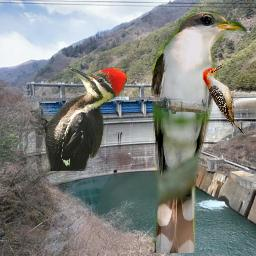Cuckoo: (149, 9, 247, 253)
Woodpecker: (30, 65, 127, 171), (202, 64, 245, 136)
